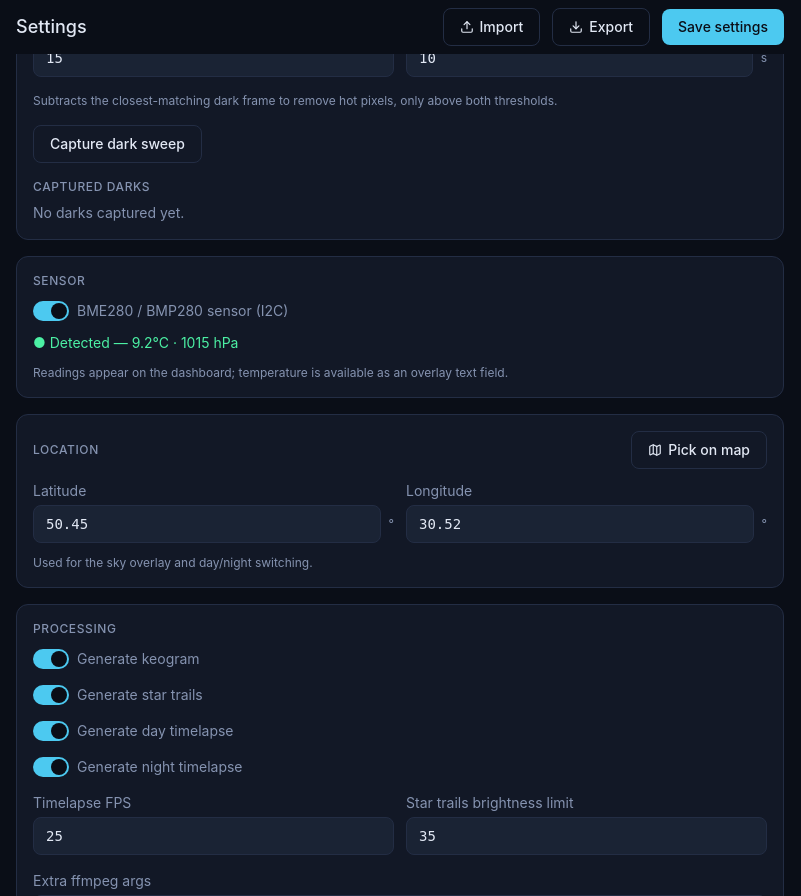
Scenario: SettingsPage › opens the OpenStreetMap picker from the Location card
The width and height of the screenshot is (801, 896).
(page scrolled)
Expected: the number field labelled "Latitude °" is shown, [33,505,380,543]
Click the button "Pick on map" at (699, 450), box [631,431,767,469]
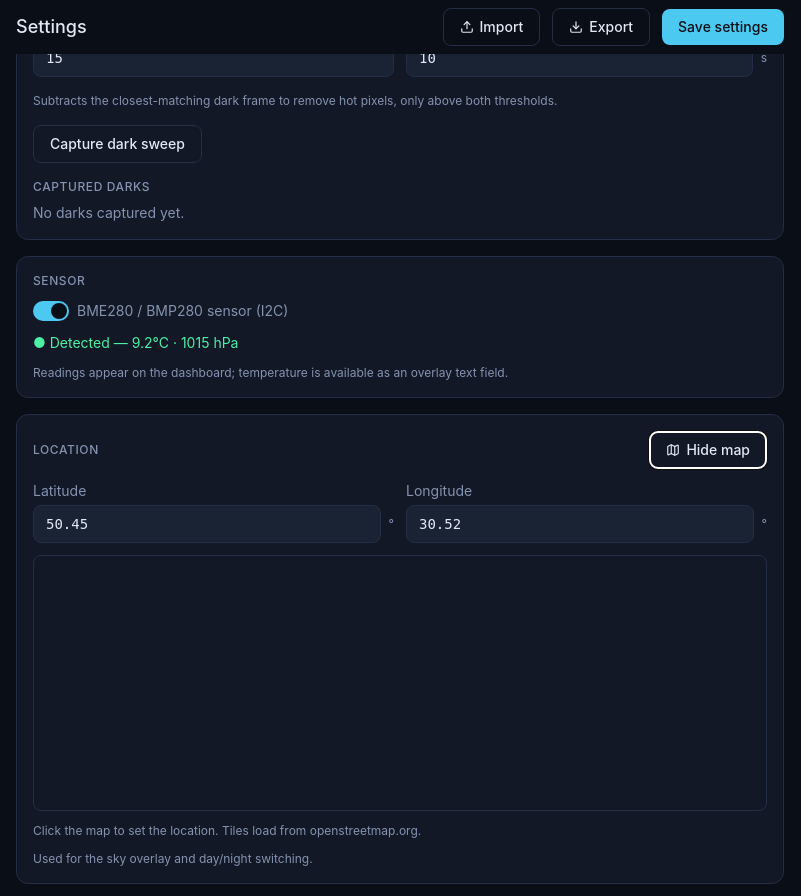
Expected: the element with test id "location-map" is shown, [33,555,767,811]
Click the button "Hide map" at (708, 450), box [649,431,767,469]
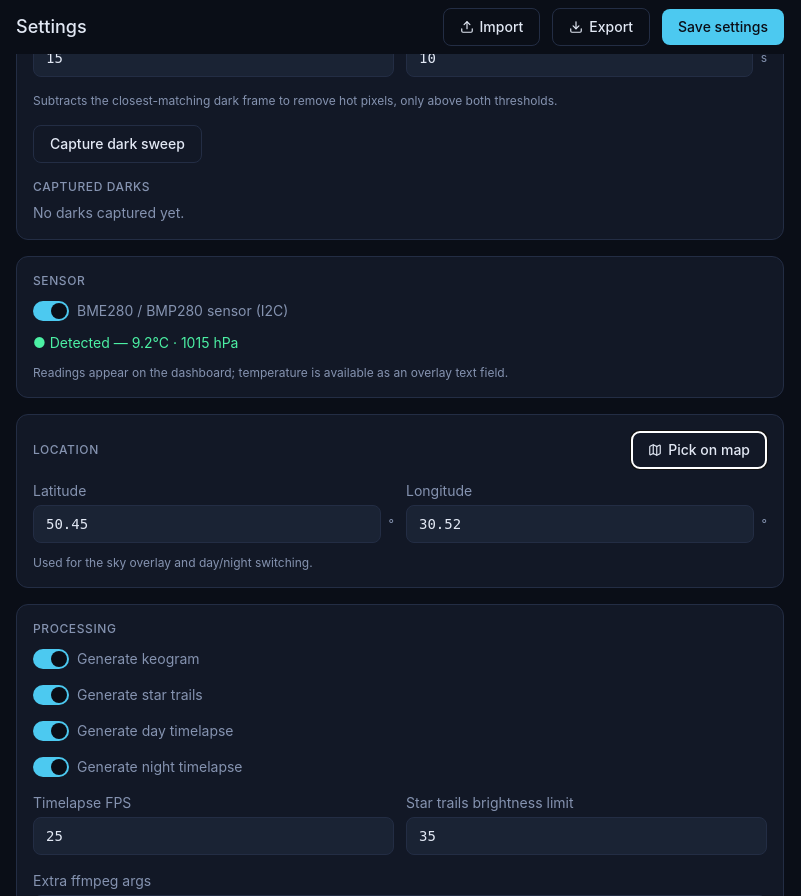
Expected: the element with test id "location-map" is gone
